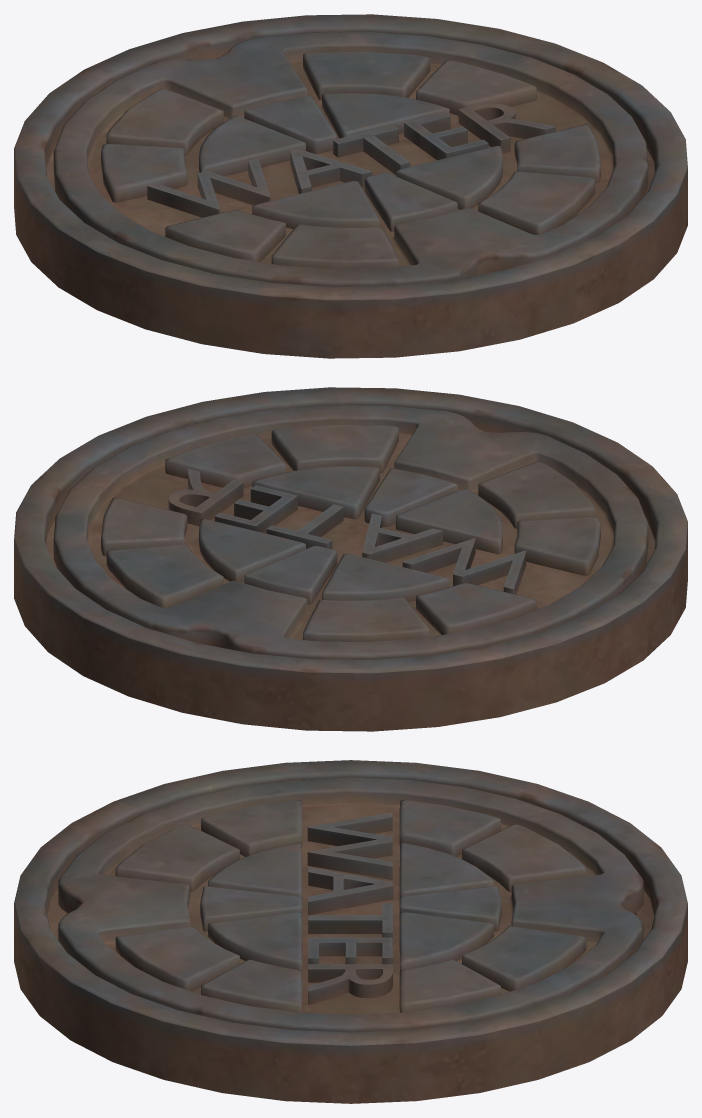
Rendered from water_manhole_cover.glb.
3 renders of one model, top to bottom at view 1: azimuth 30°, elevation 25°; view 2: azimuth 150°, elevation 25°; view 3: azimuth 270°, elevation 25°, orthographic.
Parts seen in each view (by area): view 1: water_manhole_cover, water_manhole_cover_frame; view 2: water_manhole_cover, water_manhole_cover_frame; view 3: water_manhole_cover, water_manhole_cover_frame.
Part boxes in pixels (box(x1,y1,x2,y2)): water_manhole_cover: box(53, 32, 648, 286); water_manhole_cover_frame: box(14, 14, 687, 358); water_manhole_cover: box(53, 405, 648, 659); water_manhole_cover_frame: box(14, 387, 687, 731); water_manhole_cover: box(58, 777, 643, 1032); water_manhole_cover_frame: box(14, 760, 687, 1103).
Bounding box in the file's own units: 0.6908 × 0.0676 × 0.6908.
Materials: 1 (1 with a texture image).
